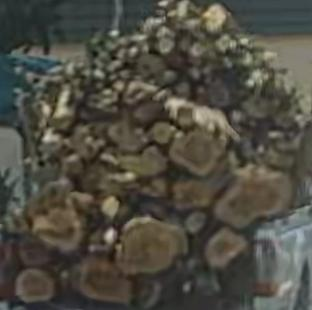large: (214, 165, 292, 228), (115, 216, 187, 273), (174, 152, 235, 209), (30, 193, 83, 249), (166, 99, 238, 138), (169, 129, 224, 176), (79, 254, 131, 303)
medium: (205, 228, 246, 268), (108, 113, 146, 152), (120, 145, 167, 176), (15, 269, 54, 302), (51, 87, 74, 129), (19, 237, 51, 266), (121, 82, 159, 103), (202, 4, 229, 32), (243, 98, 276, 118), (89, 228, 117, 251), (150, 122, 176, 144), (41, 128, 63, 151), (141, 178, 168, 196), (101, 196, 120, 217), (186, 213, 205, 233), (62, 155, 84, 172), (216, 38, 237, 54), (159, 37, 174, 55), (48, 178, 70, 188)
small: (88, 89, 118, 107), (35, 102, 52, 128), (190, 44, 204, 63), (112, 80, 128, 91), (188, 70, 200, 81), (91, 71, 104, 80), (109, 73, 119, 79)
